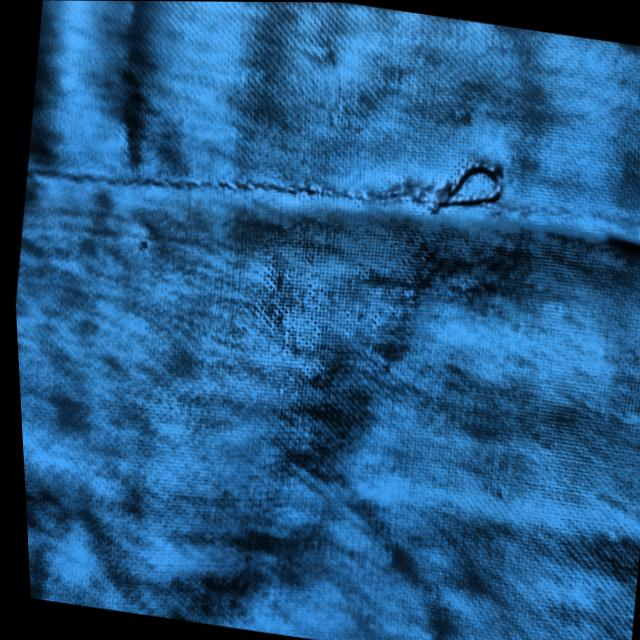Stitch: (319, 101, 519, 270)
